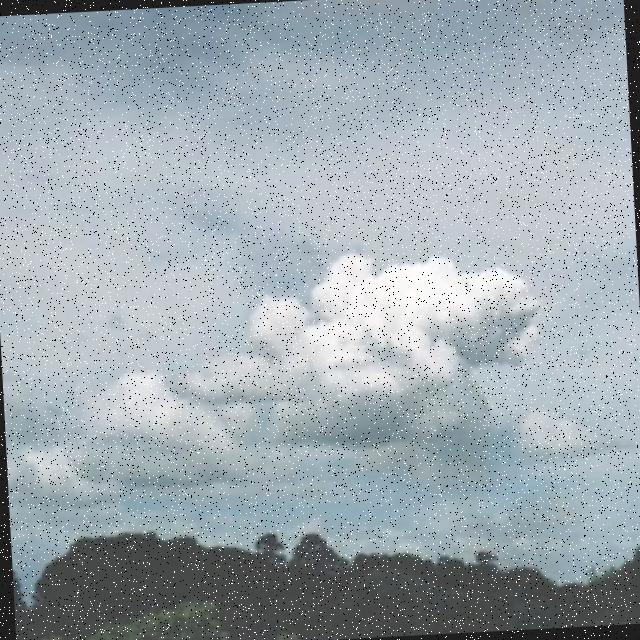Cs: (1, 230, 638, 523)
